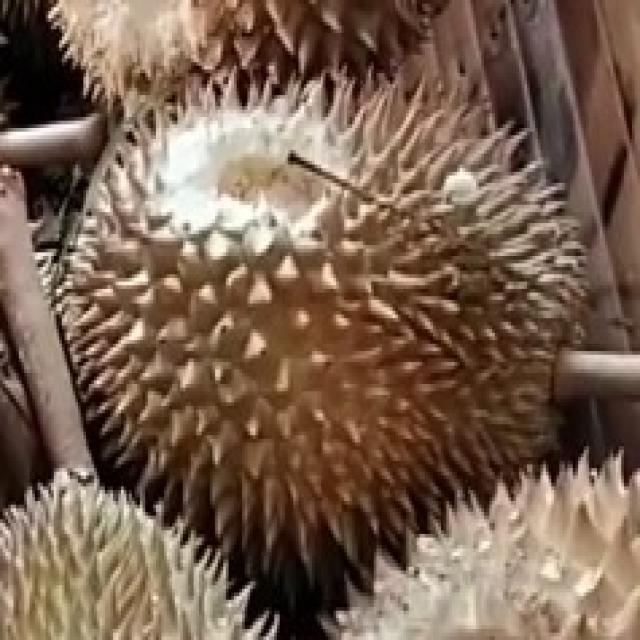defective: (62, 60, 590, 608)
